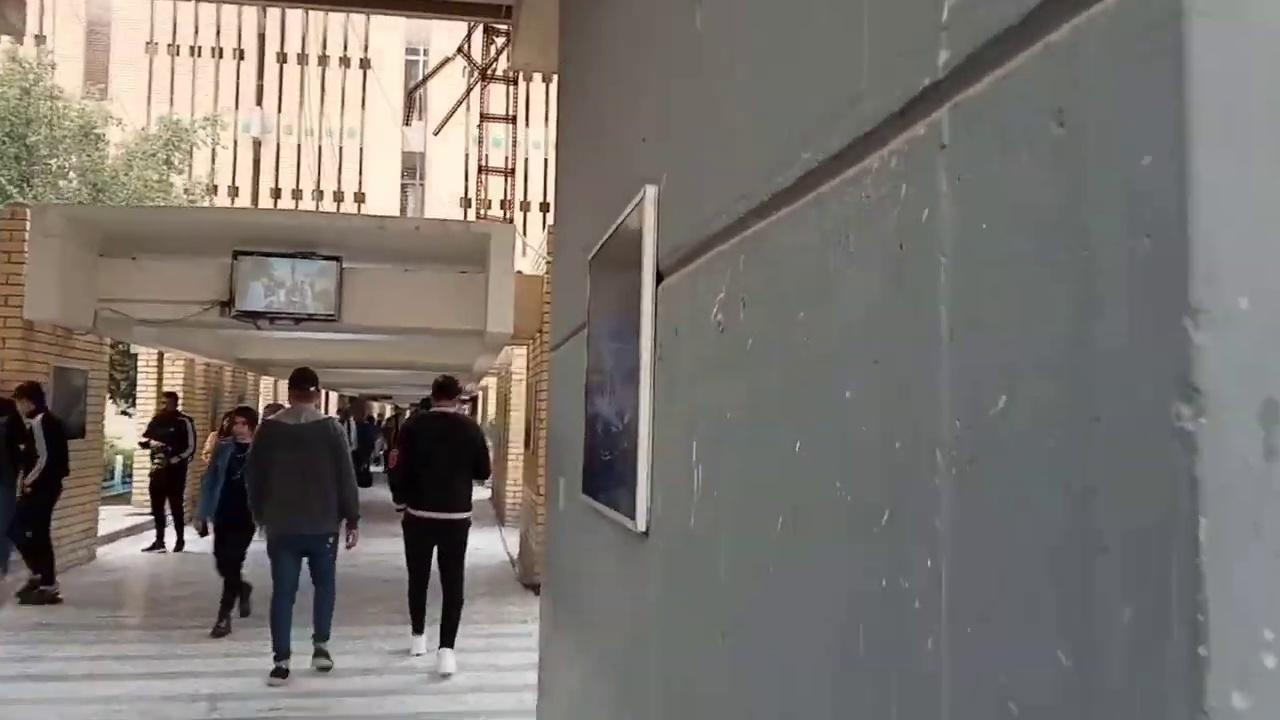person: (242, 366, 361, 685), (387, 373, 492, 676), (192, 405, 260, 638), (6, 380, 70, 604), (138, 390, 196, 552), (0, 395, 39, 579)
tree: (0, 40, 228, 210), (106, 340, 137, 417)
